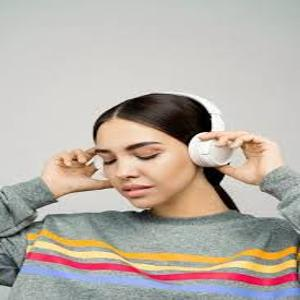Headphones: (91, 91, 235, 180)
